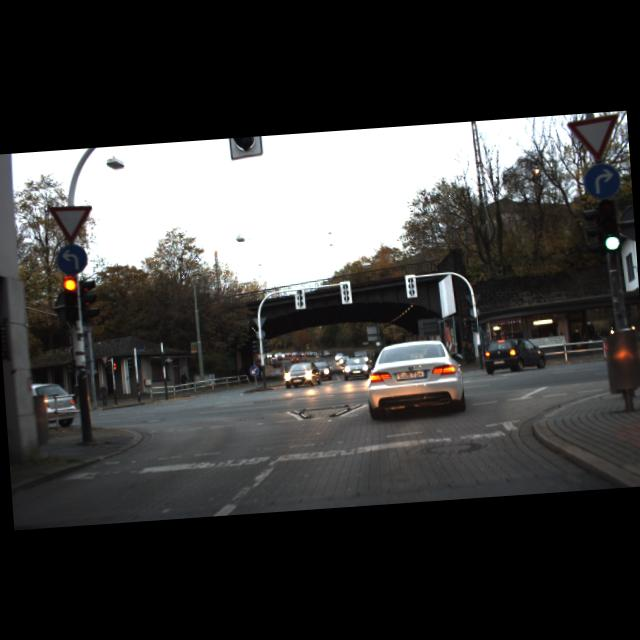mandatory: (584, 160, 622, 198), (56, 242, 88, 276), (250, 365, 260, 376)
other: (566, 112, 622, 162), (47, 203, 94, 244)
